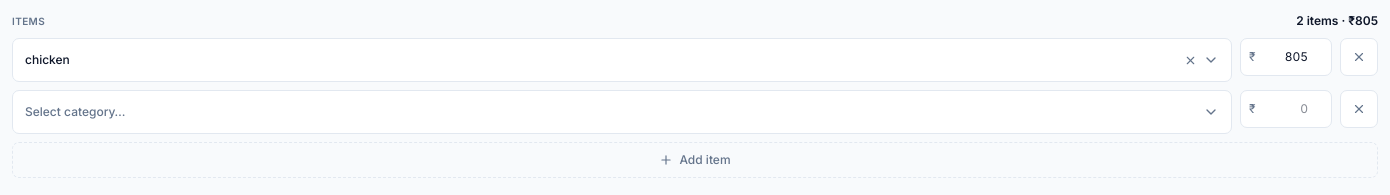
Test case: MultiItemExpenseForm › removes a row and updates the total
The image size is (1390, 195).
Type "140" into the number field named "Amount for item 2".
click(1290, 109); type("140")  # box [1258, 100, 1323, 118]
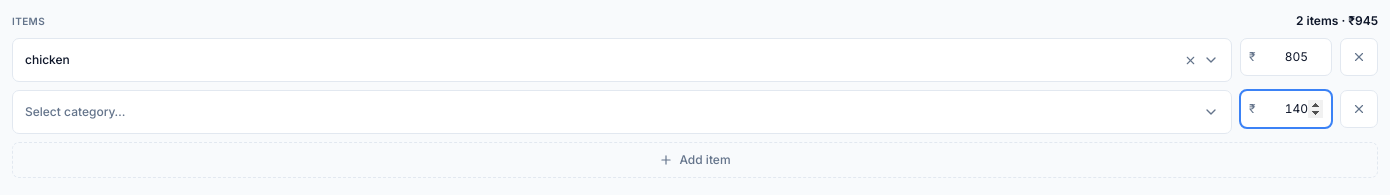
Now the text "2 items · ₹945" is shown, box [1296, 12, 1378, 30]
Click the button named "remove item 2".
click(1359, 109)  # box [1340, 90, 1378, 128]
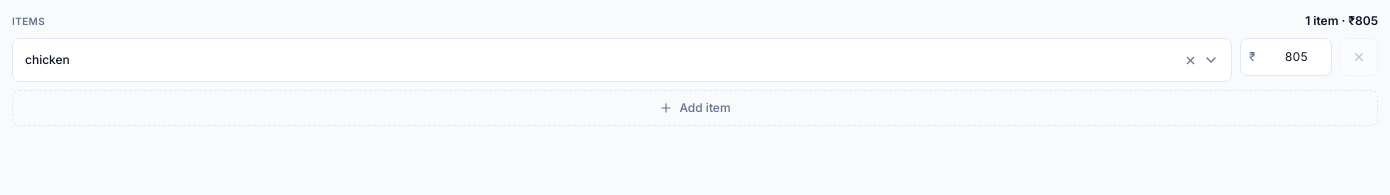
Now the text "1 item · ₹805" is shown, box [1305, 12, 1378, 30]
